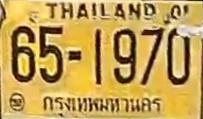0: (166, 27, 190, 84)
1: (94, 28, 101, 84)
5: (38, 25, 63, 82)
6: (10, 26, 34, 82)
7: (140, 27, 164, 84)
9: (113, 28, 136, 83)
BKK: (40, 91, 167, 119)
